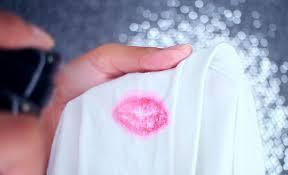kimchi: (109, 92, 167, 139)
